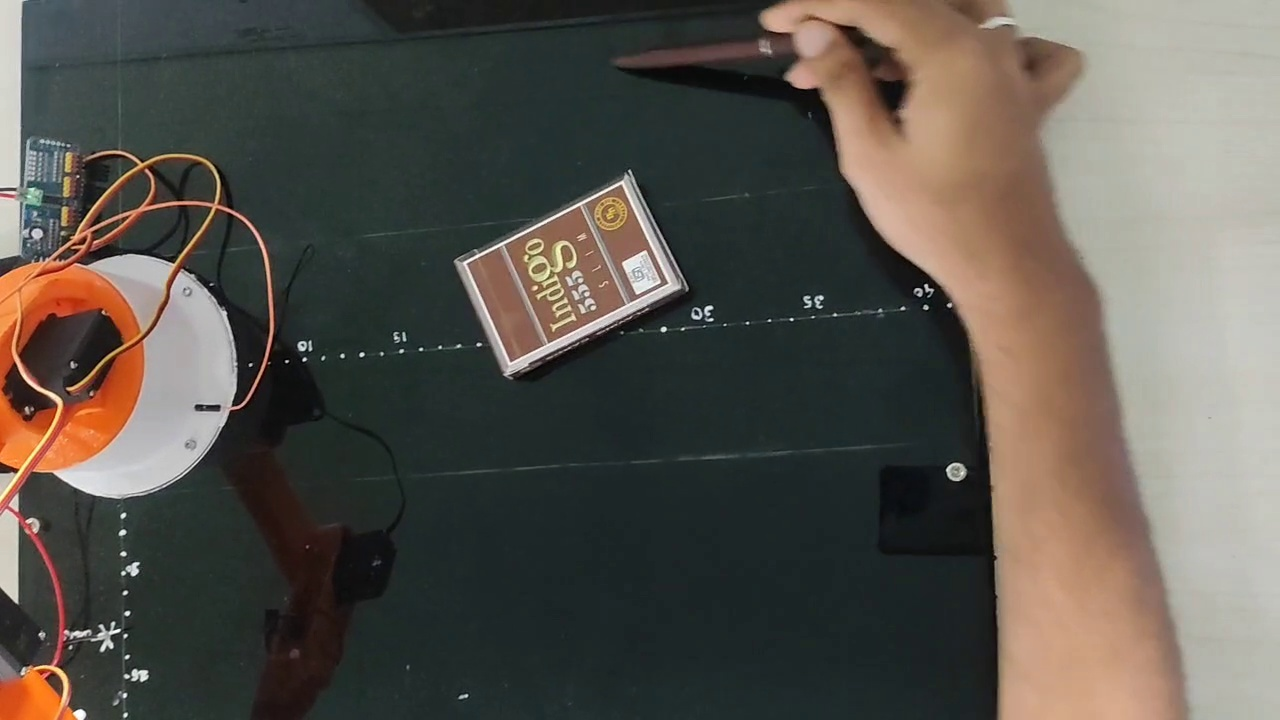BEX: (466, 177, 668, 363)
